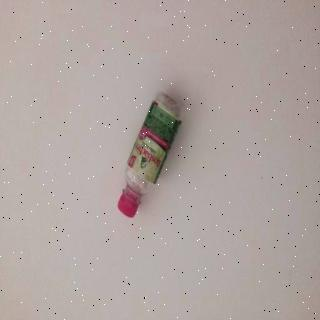Plastic-bottle: (117, 93, 186, 223)
